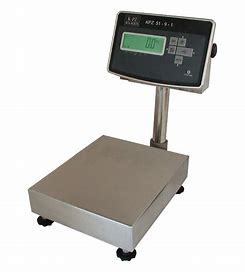Industrial Scale: (27, 11, 218, 262)
